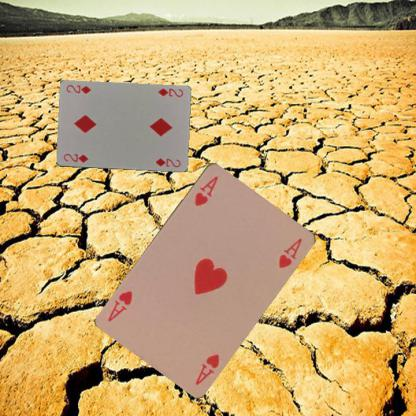2d: (61, 150, 90, 164), (156, 86, 184, 98)
Ah: (192, 350, 221, 386), (191, 173, 220, 207)
